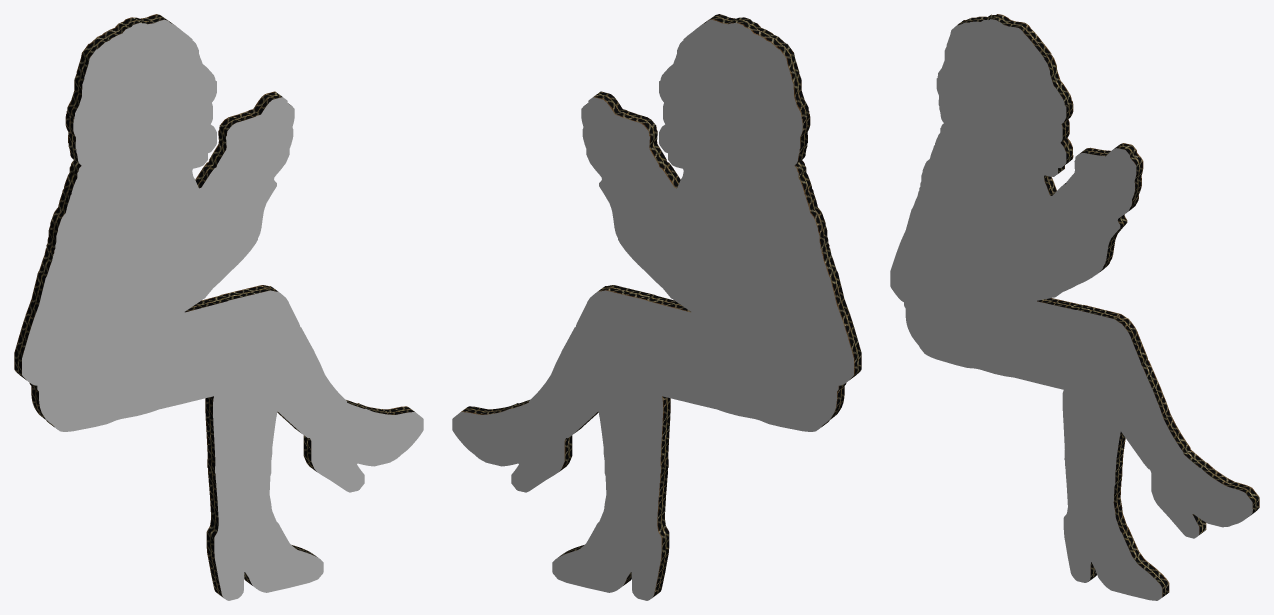
File: NPC_Cafe_Patron_Female_coffee.FBX
3 views of the same model, side by side, from view 1: azimuth 30°, elevation 25°; view 2: azimuth 150°, elevation 25°; view 3: azimuth 330°, elevation 25° (orthographic). The views are drawn at different scales.
Visible parts, largest first — view 1: _Cafe_Patron_Female_coffee; view 2: _Cafe_Patron_Female_coffee; view 3: _Cafe_Patron_Female_coffee.
Part boxes in pixels (<box>): _Cafe_Patron_Female_coffee: <box>14,14,423,600</box>; _Cafe_Patron_Female_coffee: <box>452,14,861,600</box>; _Cafe_Patron_Female_coffee: <box>890,14,1259,600</box>.
Bounding box in the file's own units: 37.53 × 53.67 × 1.24.
